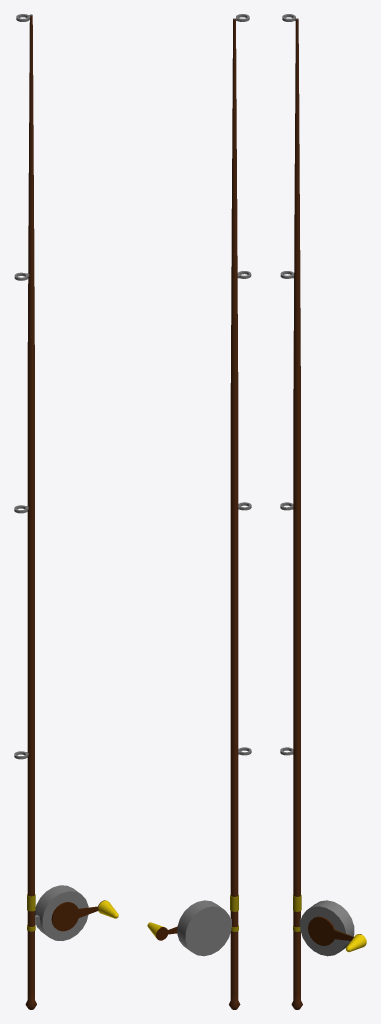
File: rod_with_fixed_crank_pivot.fbx
The picture shows the model from 3 angles, left to right: view 1: azimuth 30°, elevation 25°; view 2: azimuth 210°, elevation 25°; view 3: azimuth 330°, elevation 25°; orthographic projection.
Visible parts, largest first — view 1: rodGeometry, crankGeometry; view 2: rodGeometry, crankGeometry; view 3: rodGeometry, crankGeometry.
Boxes of the visible parts, left/top/right/bottom form: rodGeometry: left=14, top=14, right=88, bottom=1009; crankGeometry: left=51, top=900, right=118, bottom=931; rodGeometry: left=177, top=14, right=251, bottom=1009; crankGeometry: left=147, top=922, right=177, bottom=940; rodGeometry: left=280, top=14, right=354, bottom=1009; crankGeometry: left=308, top=916, right=366, bottom=952.
Bounding box in the file's own units: 0.2 × 2.1 × 0.0838.
